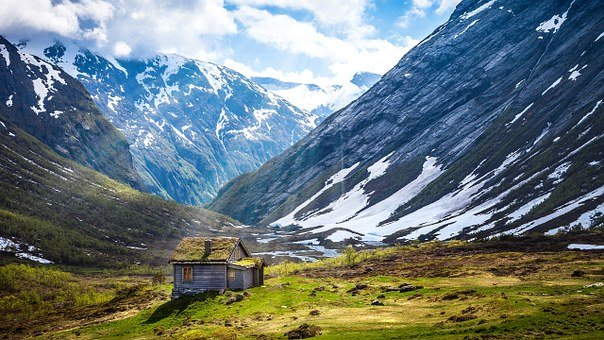house: (160, 232, 268, 298)
mountain: (15, 35, 604, 336)
